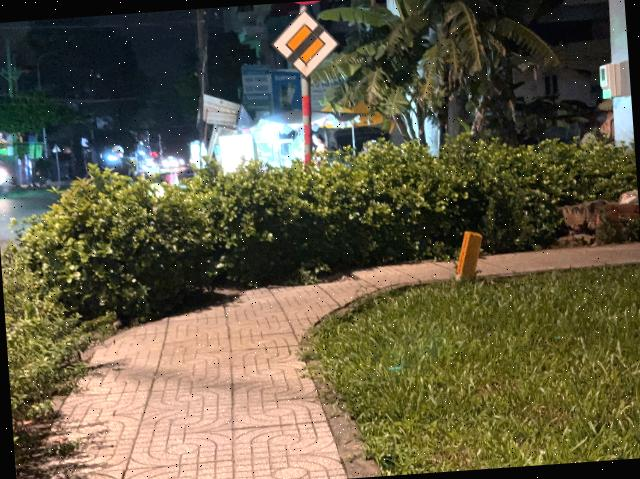het-duong-uu-tien: (268, 6, 341, 81)
